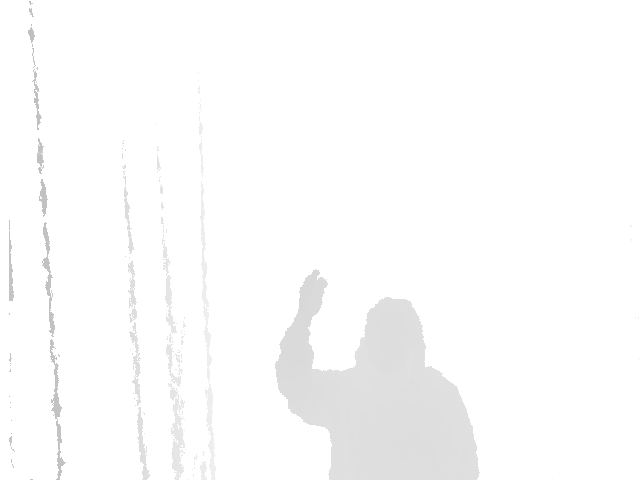hand: (291, 269, 327, 322)
head: (353, 296, 426, 368)
person: (275, 270, 480, 480)
